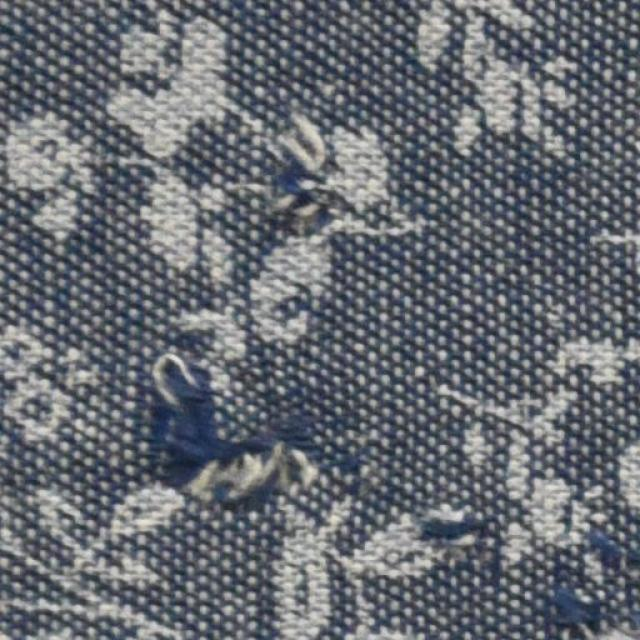Snag: (143, 339, 318, 519), (544, 527, 639, 639), (265, 144, 347, 241), (417, 495, 493, 563)
